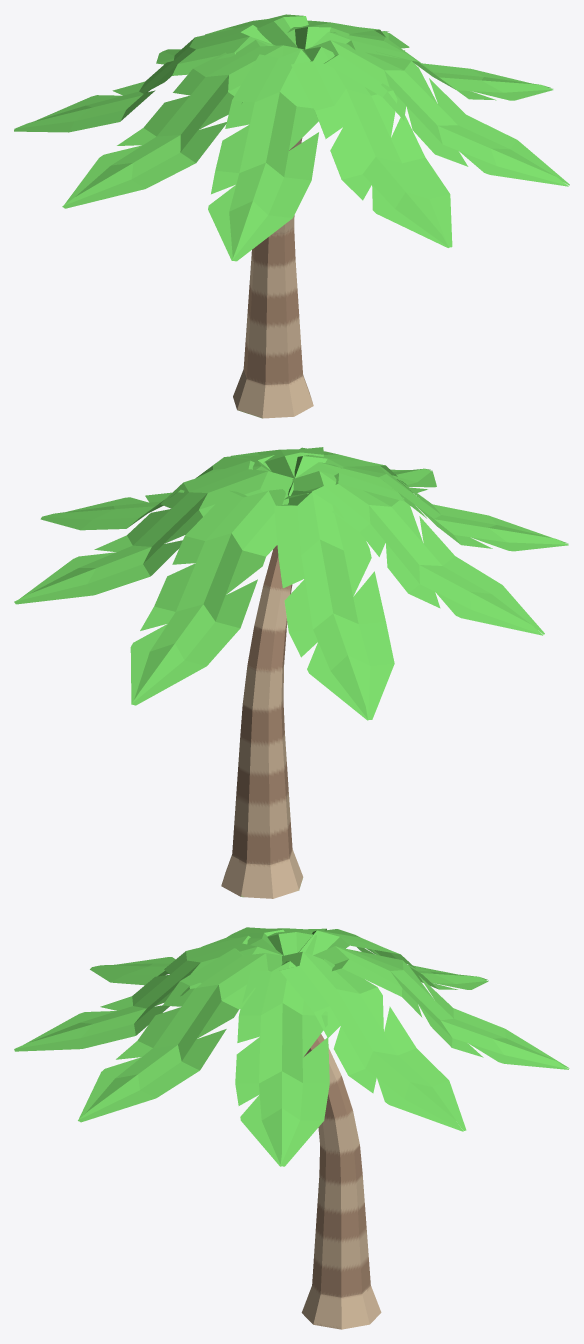
The model's file is TREE #2.fbx.
3 renders of one model, top to bottom at view 1: azimuth 30°, elevation 25°; view 2: azimuth 150°, elevation 25°; view 3: azimuth 270°, elevation 25°, orthographic. The views are drawn at different scales.
Parts seen in each view (by area): view 1: two; view 2: two; view 3: two.
Boxes of the visible parts, x1=… form: two: x1=14, y1=14, x2=569, y2=418; two: x1=14, y1=447, x2=568, y2=898; two: x1=14, y1=927, x2=569, y2=1329.
Size of the model in its own units: 1398 by 1045 by 1432.
1 material, 1 textured.
